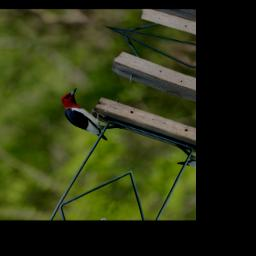Woodpecker: (49, 85, 128, 141)
